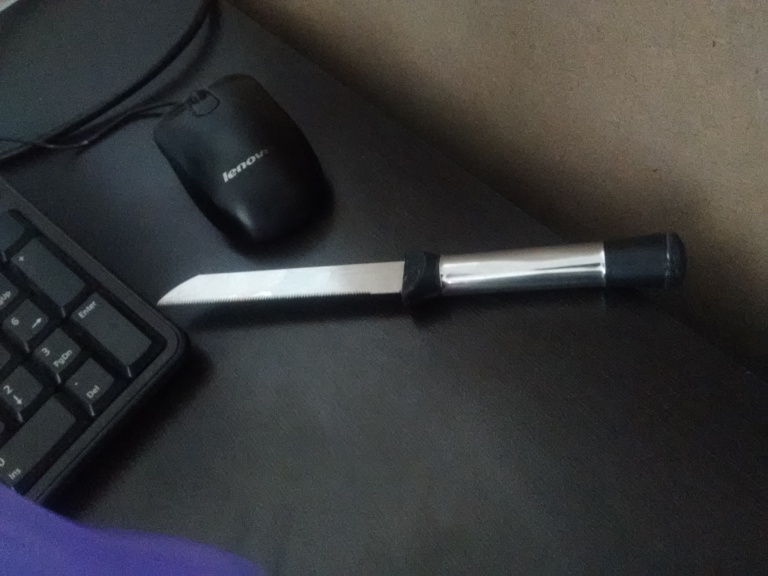knife: (152, 228, 683, 310)
